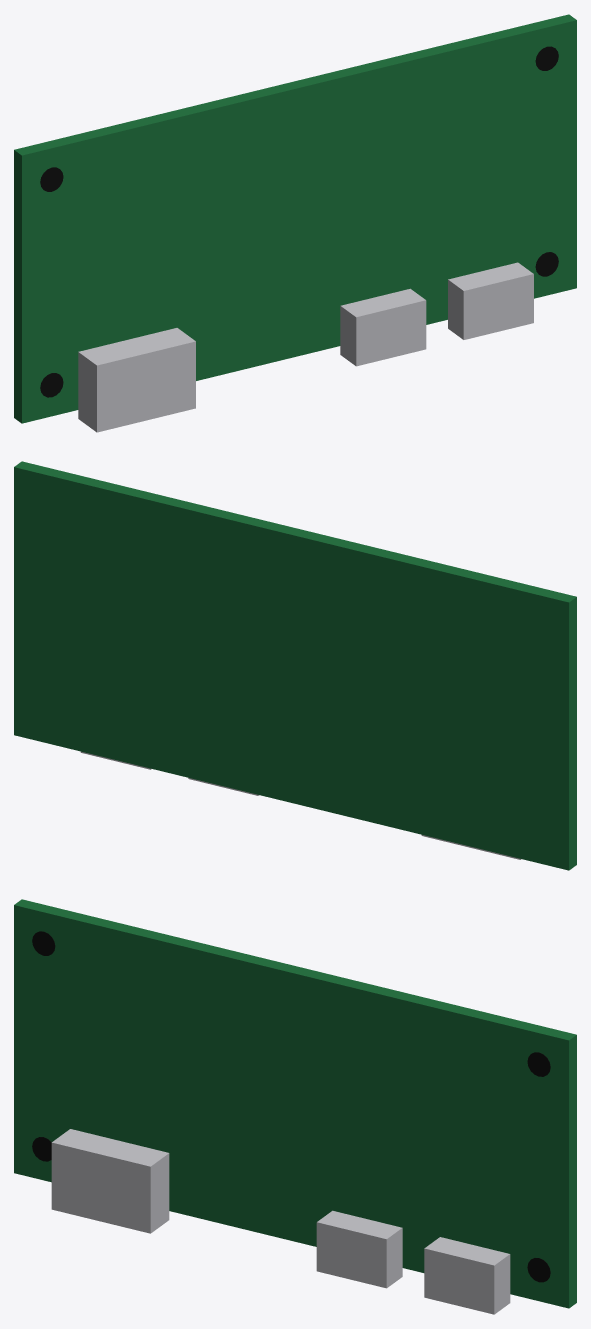
Rendered from mod-pizero.glb.
3 renders of one model, top to bottom at view 1: azimuth 30°, elevation 25°; view 2: azimuth 150°, elevation 25°; view 3: azimuth 330°, elevation 25°, orthographic.
Visible parts, largest first — view 1: PCB-PI, MET-PORT; view 2: PCB-PI; view 3: PCB-PI, MET-PORT.
Part boxes in pixels (x1=…): PCB-PI: x1=14, y1=14, x2=576, y2=423; MET-PORT: x1=78, y1=262, x2=533, y2=432; PCB-PI: x1=14, y1=461, x2=576, y2=870; PCB-PI: x1=14, y1=899, x2=576, y2=1308; MET-PORT: x1=51, y1=1129, x2=510, y2=1314.
Size of the model in its own units: 65 by 31 by 5.4.
